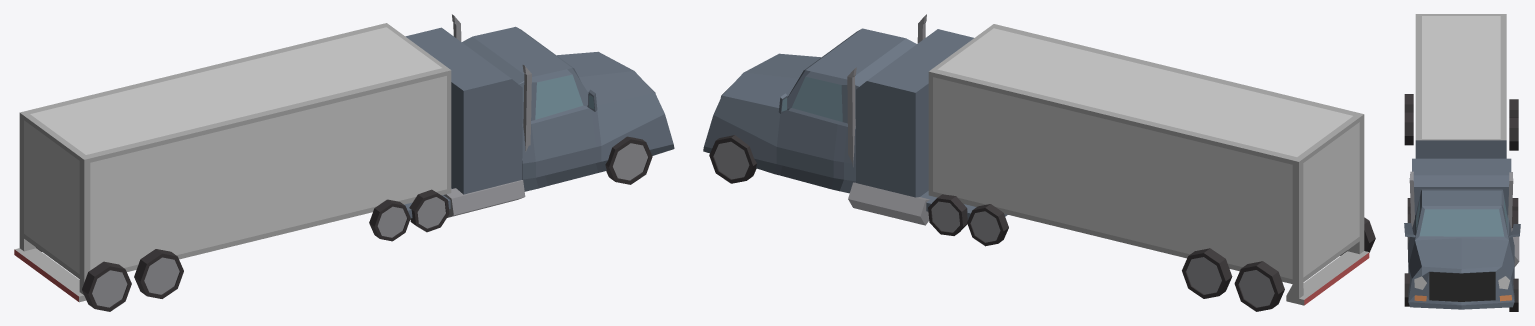
Rendered from semitruck.fbx.
3 renders of one model, left to right at view 1: azimuth 30°, elevation 25°; view 2: azimuth 150°, elevation 25°; view 3: azimuth 270°, elevation 25°, orthographic. The views are drawn at different scales.
Visible parts, largest first — view 1: box, cabin, wheels; view 2: box, cabin, wheels; view 3: cabin, box, wheels.
Boxes of the visible parts, x1,y1,x2,y2 form: box: (14,23,451,302); cabin: (404,14,674,218); wheels: (36,136,652,311); box: (928,24,1369,305); cabin: (703,14,1007,225); wheels: (709,135,1375,311); cabin: (1404,158,1520,309); box: (1415,14,1506,158); wheels: (1404,94,1518,311).
Size of the model in its own units: 919 by 222 by 220.
